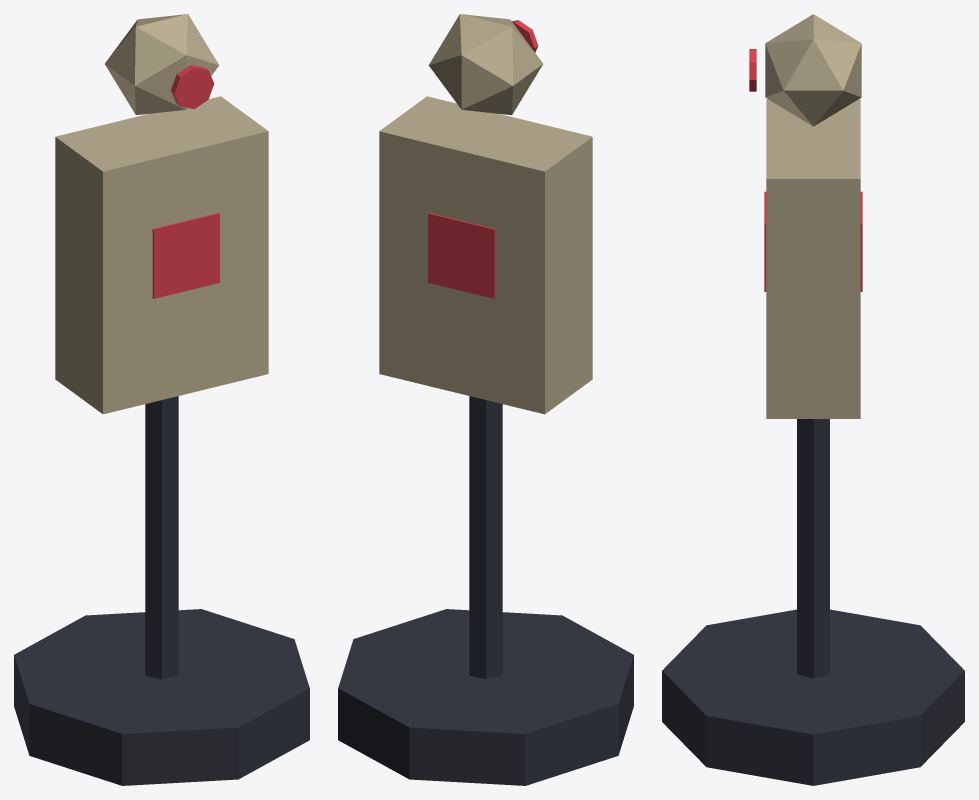
Rendered from target_dummy.glb.
3 renders of one model, left to right at view 1: azimuth 30°, elevation 25°; view 2: azimuth 150°, elevation 25°; view 3: azimuth 270°, elevation 25°, orthographic.
Visible parts, largest first — view 1: model; view 2: model; view 3: model.
Boxes of the visible parts, left/top/right/bottom form: model: left=14, top=14, right=309, bottom=785; model: left=338, top=14, right=633, bottom=785; model: left=662, top=14, right=964, bottom=785.
Bounding box in the file's own units: 0.8 × 2.03 × 0.8.
